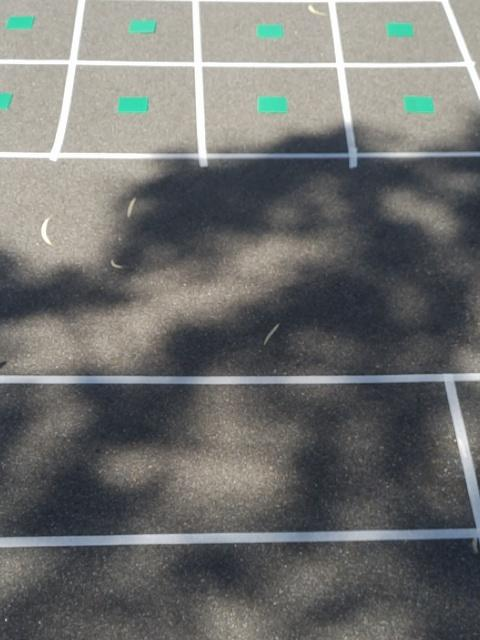weed: (254, 93, 290, 117), (402, 93, 434, 114), (116, 97, 148, 117), (256, 20, 283, 41), (128, 18, 159, 34), (8, 13, 37, 30), (388, 21, 410, 37), (0, 88, 14, 111)
